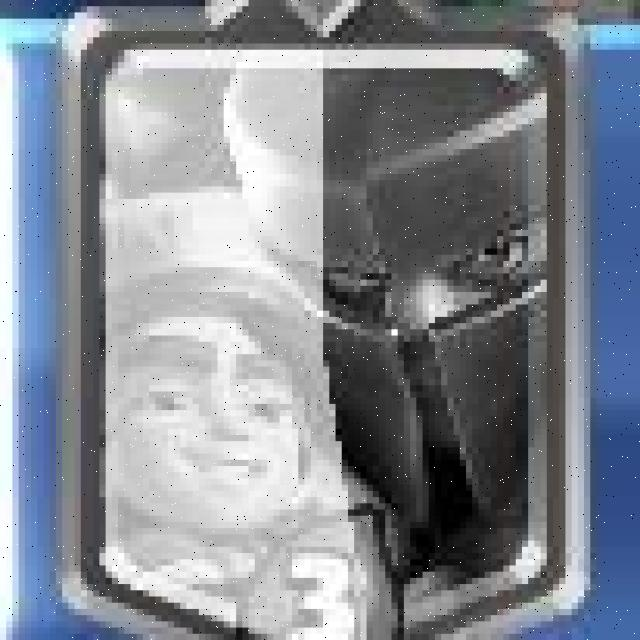Little_Prince: (57, 9, 592, 634)
